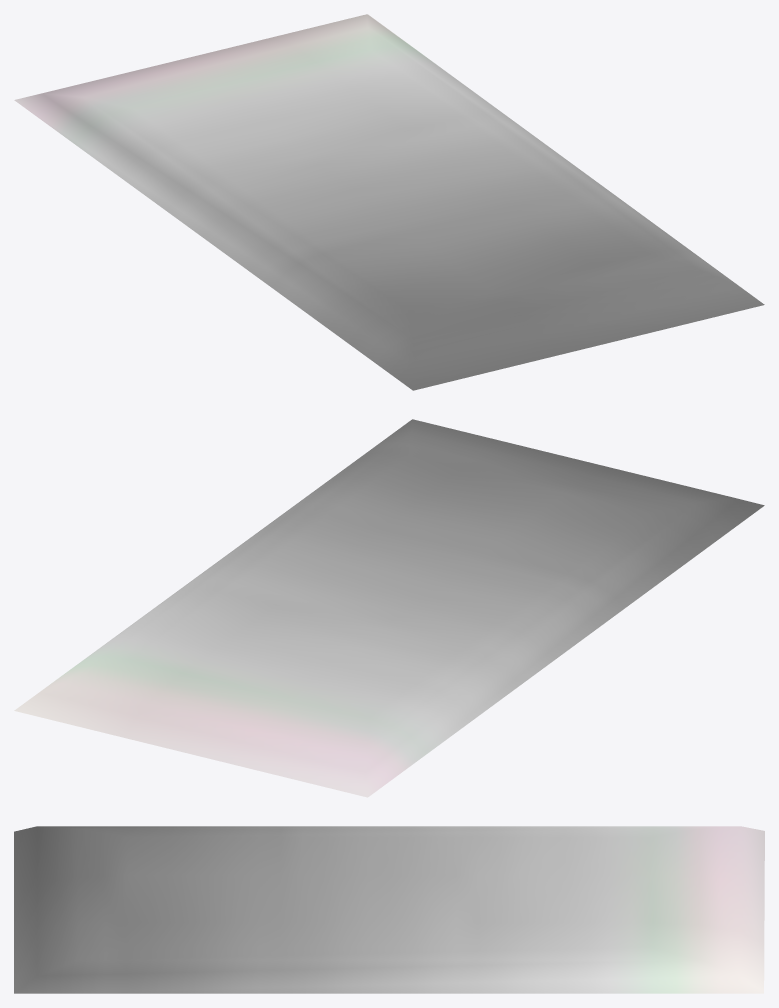
Rendered from YogaMatGrey.glb.
3 renders of one model, top to bottom at view 1: azimuth 30°, elevation 25°; view 2: azimuth 150°, elevation 25°; view 3: azimuth 270°, elevation 25°, orthographic. The views are drawn at different scales.
Visible parts, largest first — view 1: YogaMatGrey; view 2: YogaMatGrey; view 3: YogaMatGrey.
Part boxes in pixels (x1,y1,x2,y2): YogaMatGrey: (14,14,764,390); YogaMatGrey: (14,419,764,797); YogaMatGrey: (14,826,764,993).
Bounding box in the file's own units: 1.43 × 0.0831 × 2.79.
Materials: 1 (1 with a texture image).
